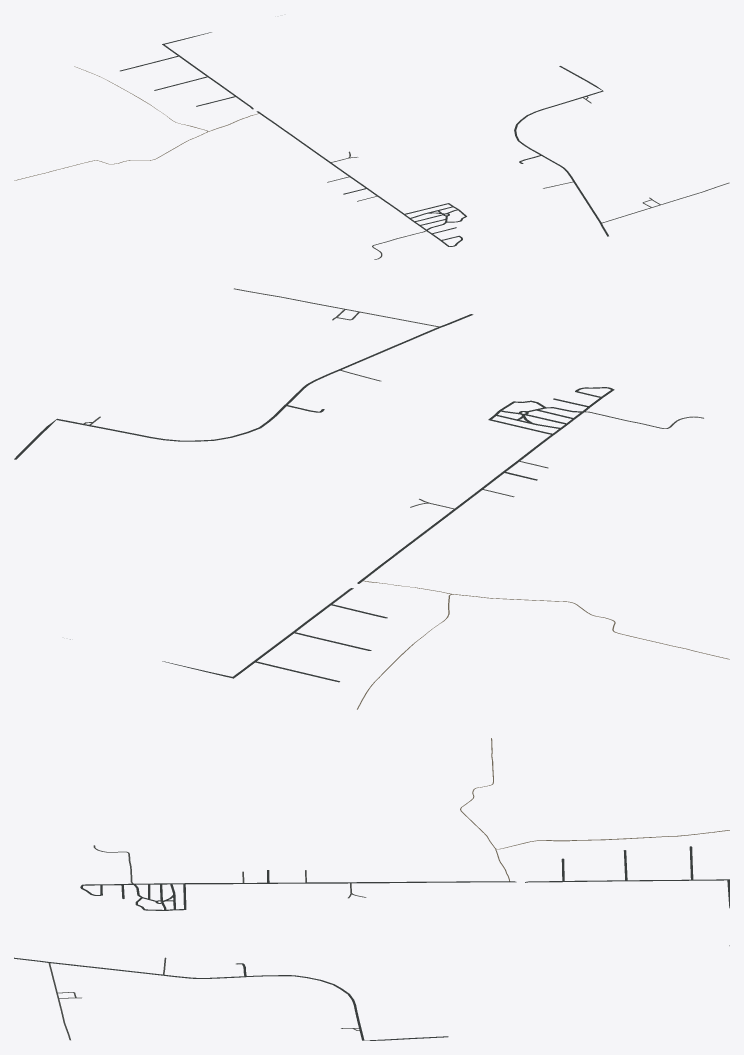
File: Roads.glb
The picture shows the model from 3 angles, top to bottom: view 1: azimuth 30°, elevation 25°; view 2: azimuth 150°, elevation 25°; view 3: azimuth 270°, elevation 25°; orthographic projection. The views are drawn at different scales.
Parts seen in each view (by area): view 1: Roads; view 2: Roads; view 3: Roads.
Boxes of the visible parts, x1=… form: Roads: x1=14, y1=32, x2=729, y2=259; Roads: x1=14, y1=288, x2=729, y2=709; Roads: x1=14, y1=738, x2=729, y2=1040.
Size of the model in its own units: 2000 by 4.71 by 2000.
